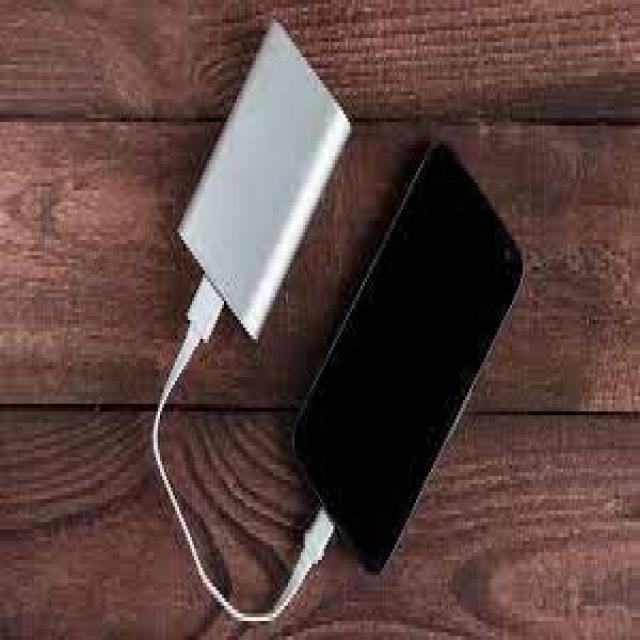power_bank: (171, 6, 351, 340)
